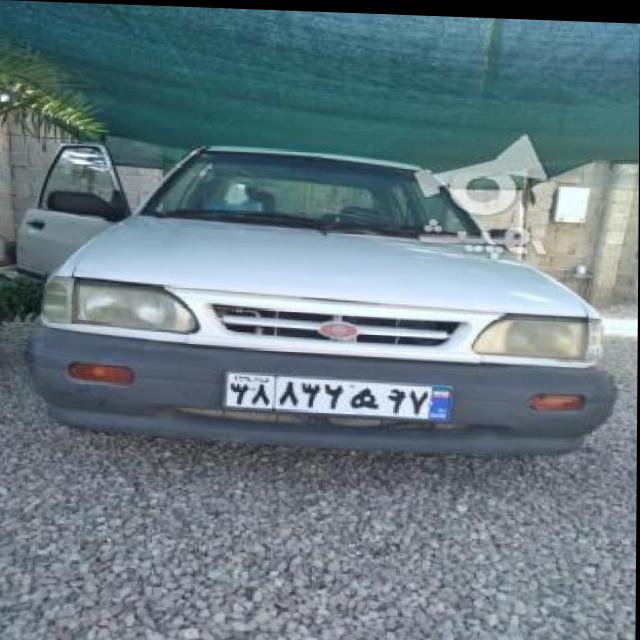licence: (225, 365, 461, 421)
